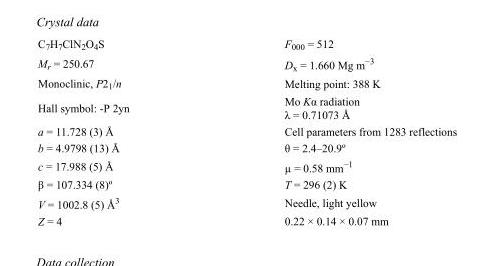table: (37, 36, 456, 226)
table column: (206, 36, 456, 226), (37, 36, 206, 226)
table row: (37, 92, 456, 122), (37, 53, 456, 74), (37, 192, 456, 212), (37, 156, 456, 175), (37, 74, 456, 92), (37, 36, 456, 53), (37, 122, 456, 139), (37, 139, 456, 156), (37, 175, 456, 192), (37, 212, 456, 226)
